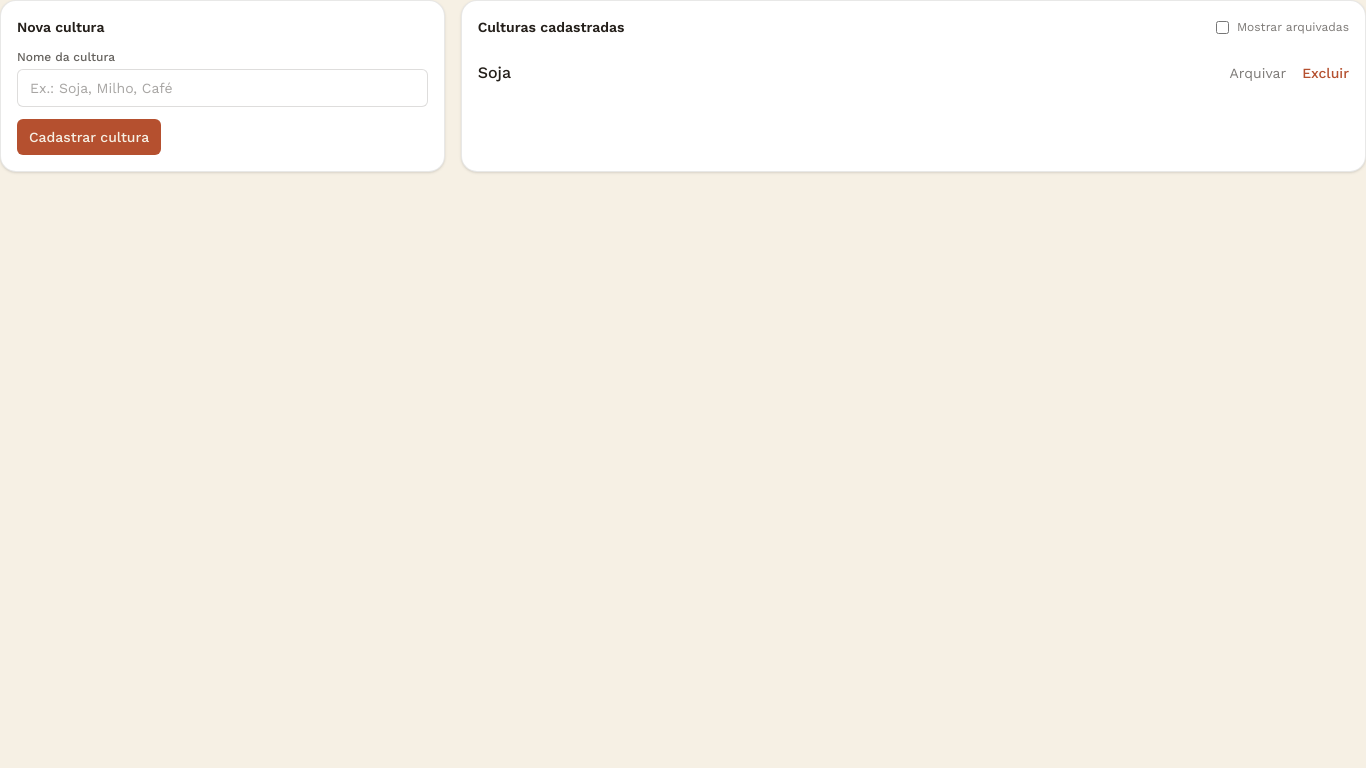
Test: CropsTab › mostra o erro do servidor quando a exclusão é bloqueada por uso
Click the button "Excluir": (1326, 73) [1302,63,1349,83]
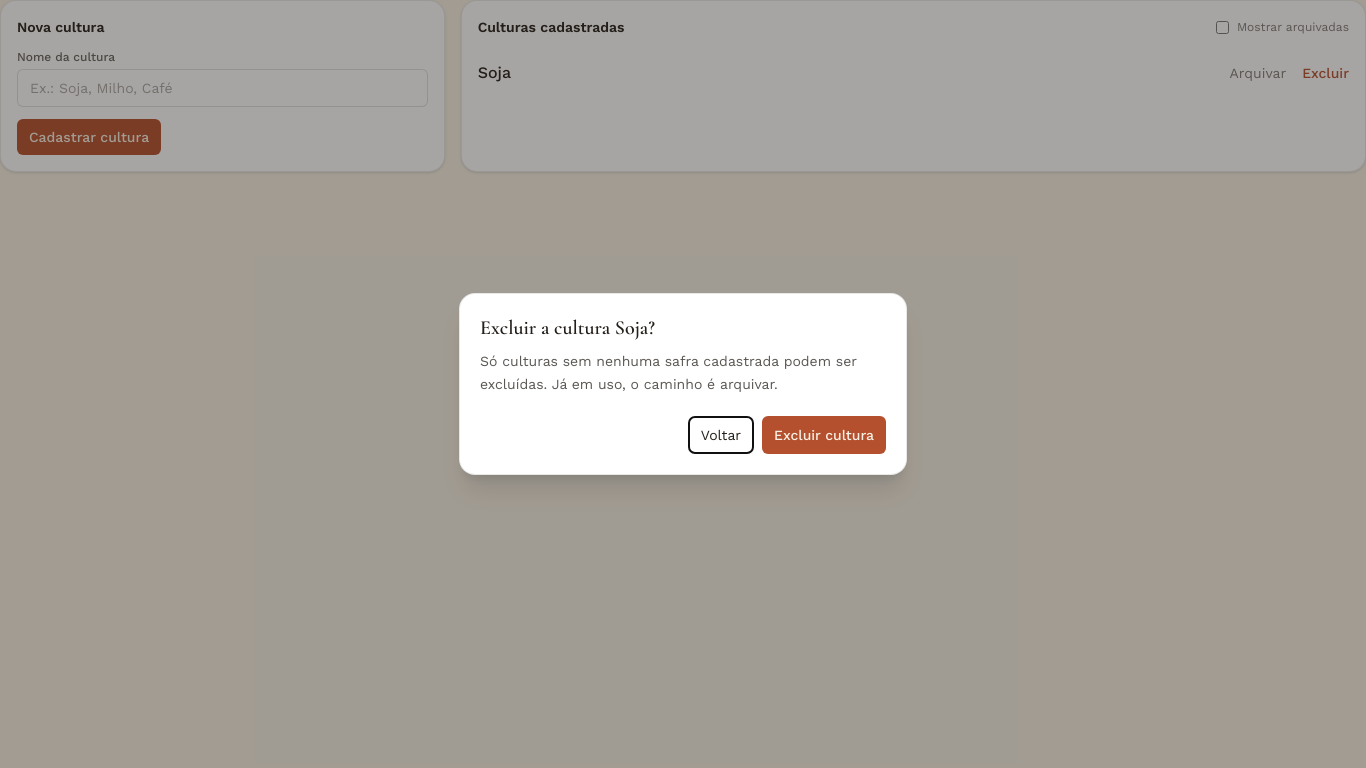
Click the button "Excluir cultura": (824, 435) [762,416,886,454]
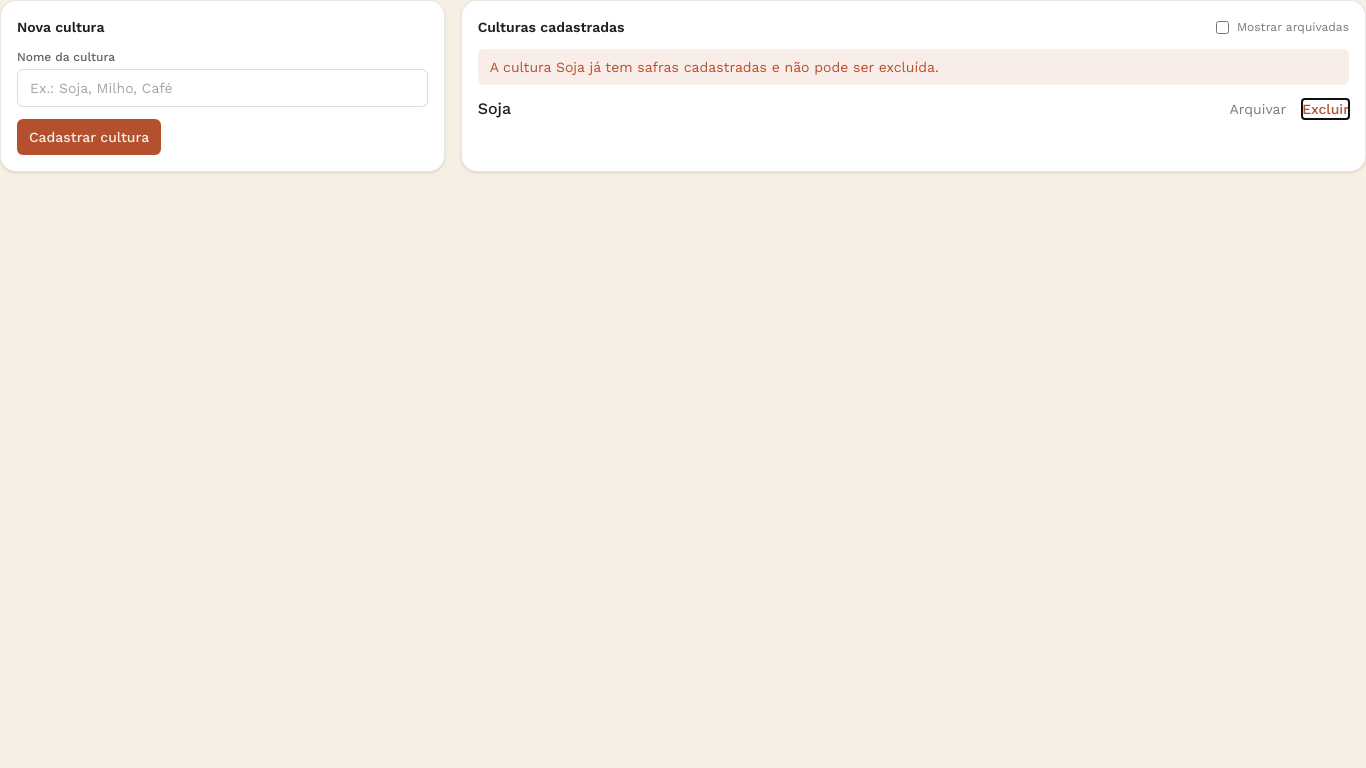
Check: the text "A cultura Soja já tem safras cadastradas e não pode ser excluída." is shown, box [478,49,1349,85]
